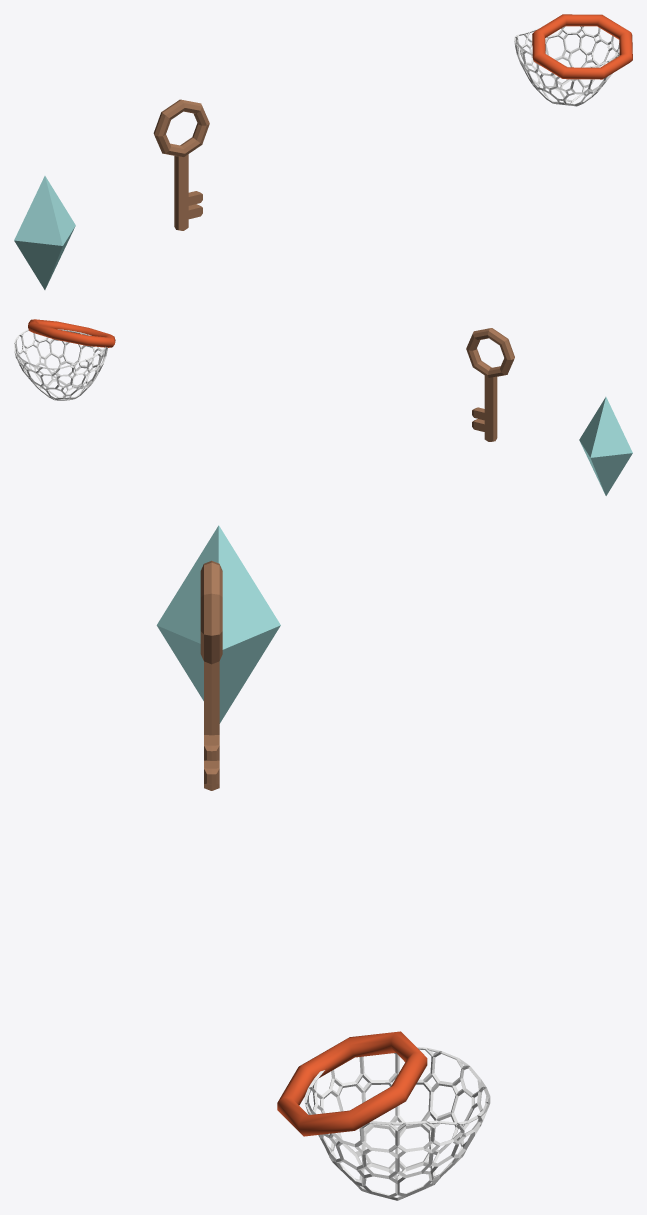
The model's file is pota.fbx.
3 renders of one model, top to bottom at view 1: azimuth 30°, elevation 25°; view 2: azimuth 150°, elevation 25°; view 3: azimuth 270°, elevation 25°, orthographic. The views are drawn at different scales.
Parts seen in each view (by area): view 1: Cube.001, Cube, Torus; view 2: Cube.001, Cube, Torus; view 3: Cube.001, Cube, Torus.
Part boxes in pixels (x1,y1,x2,y2): Cube.001: (514, 14, 632, 106); Cube: (14, 176, 75, 289); Torus: (153, 99, 209, 230); Cube.001: (14, 319, 115, 400); Cube: (579, 397, 632, 495); Torus: (466, 328, 514, 441); Cube.001: (277, 1031, 490, 1200); Cube: (156, 525, 280, 723); Torus: (200, 560, 222, 790).
Size of the model in its own units: 2121 by 492 by 537.
